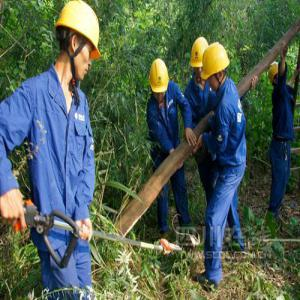yellow: (57, 3, 101, 80), (204, 43, 229, 91), (149, 60, 171, 101), (191, 37, 209, 81), (270, 60, 286, 88)
